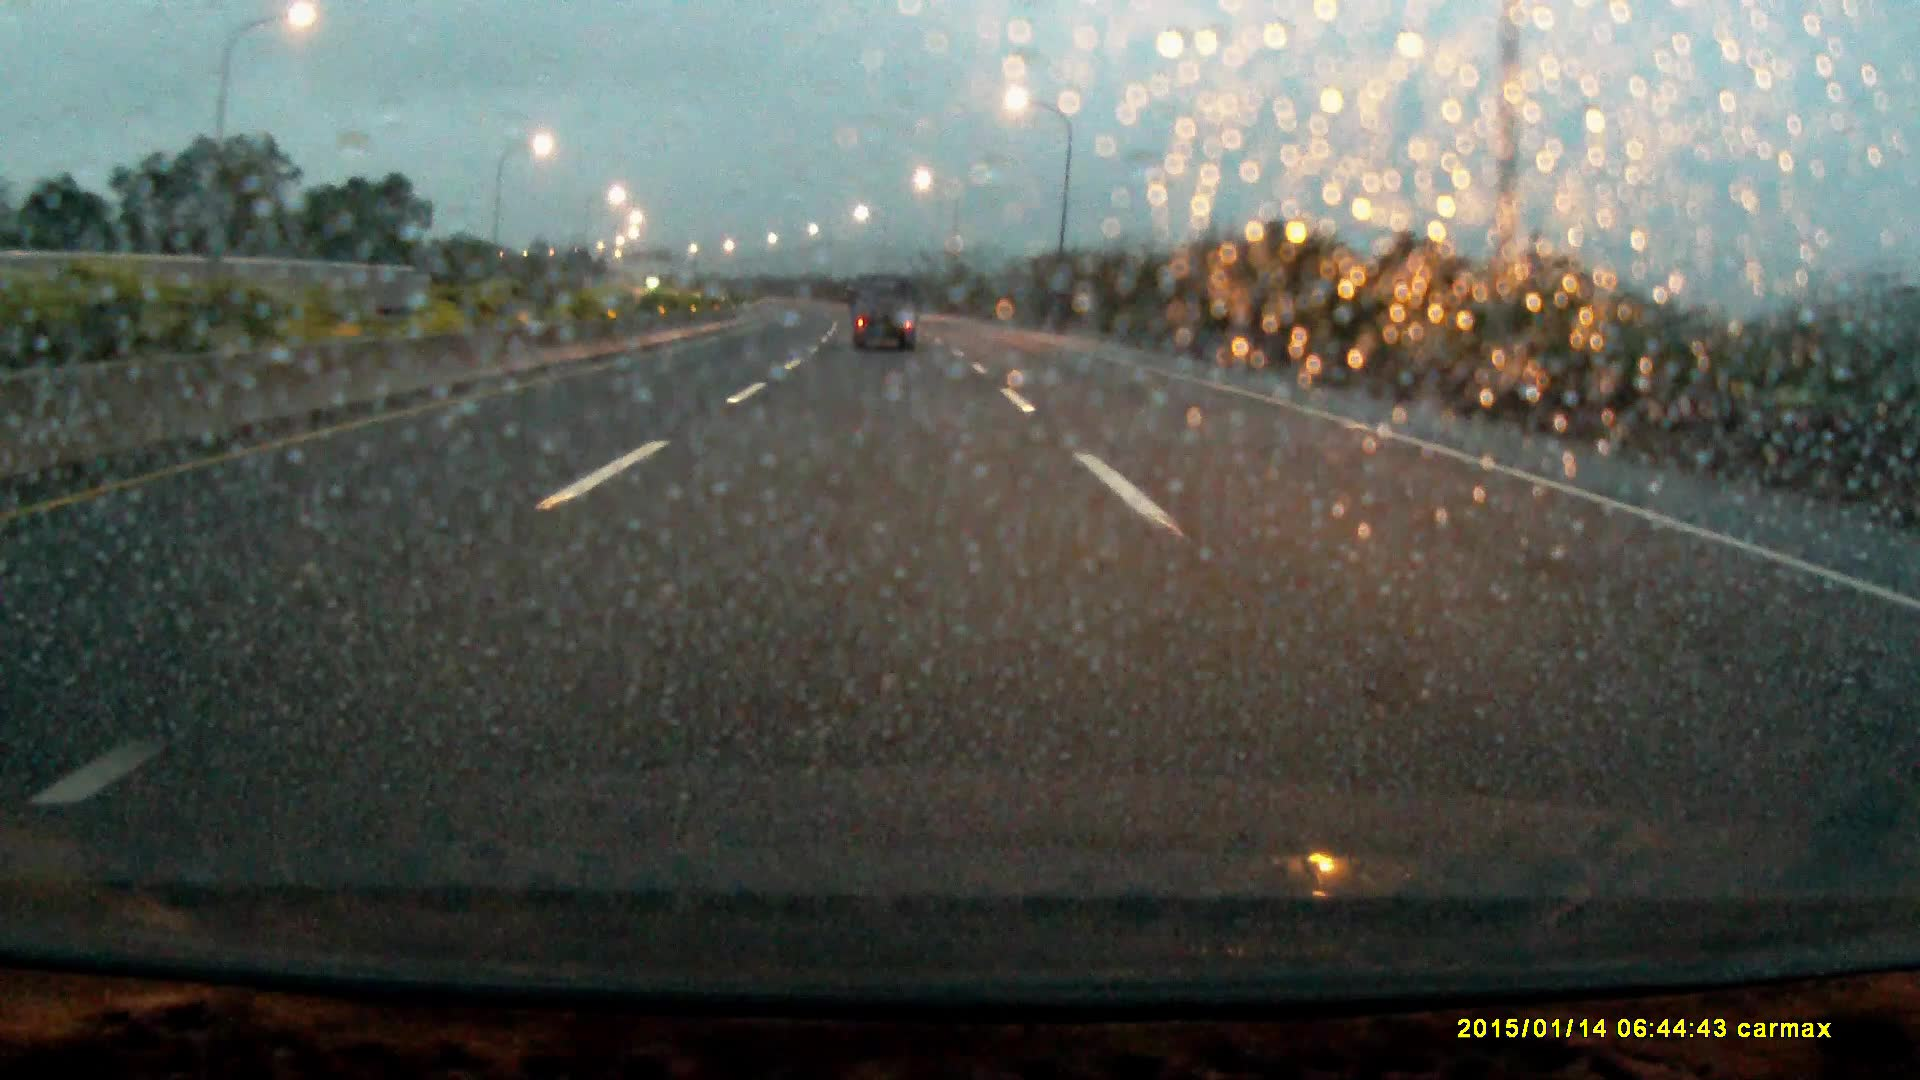vehicle: (851, 276, 919, 355)
